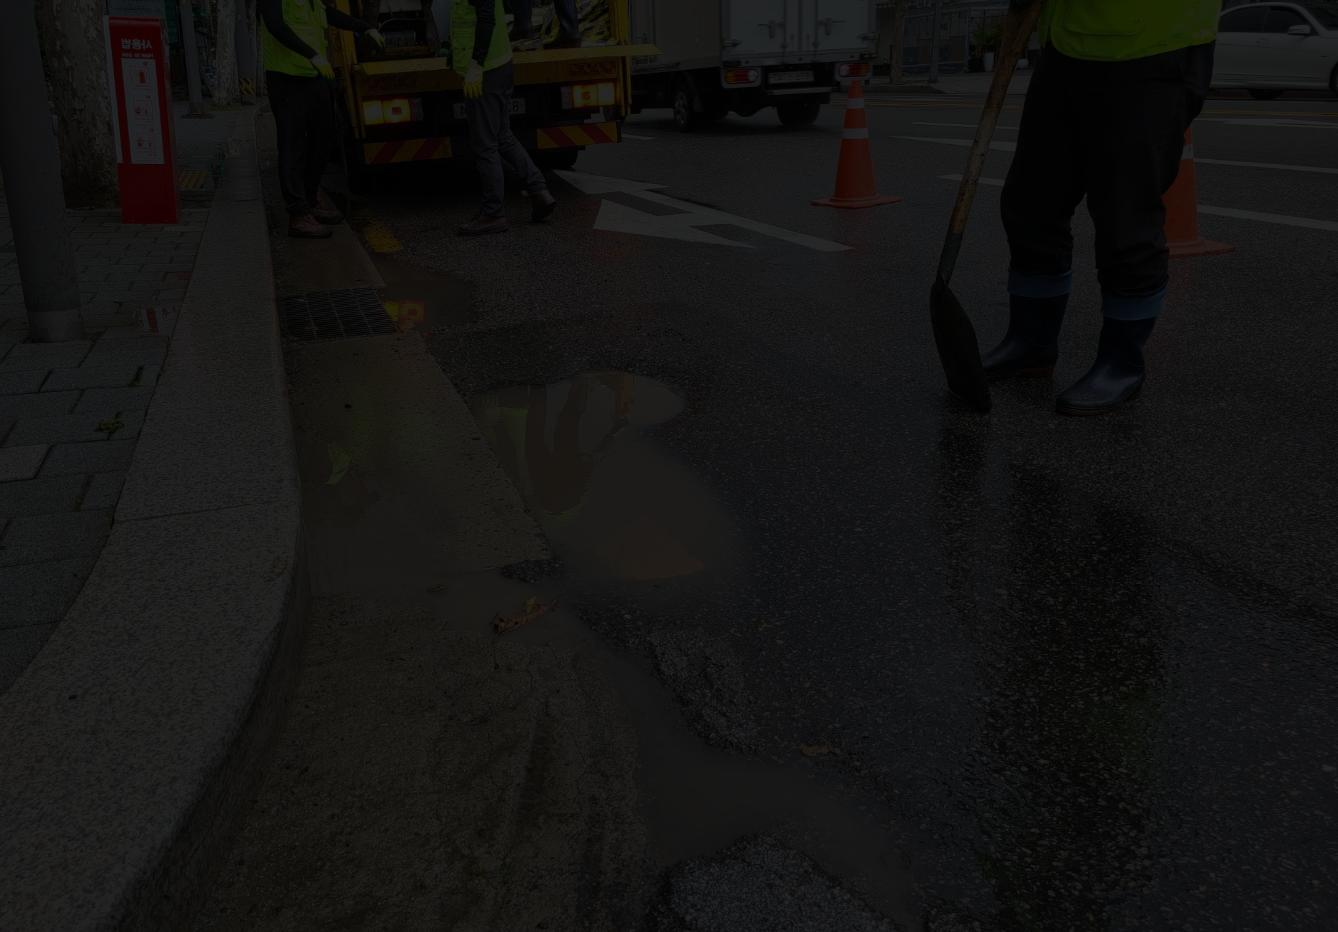pothole: (451, 303, 733, 655)
